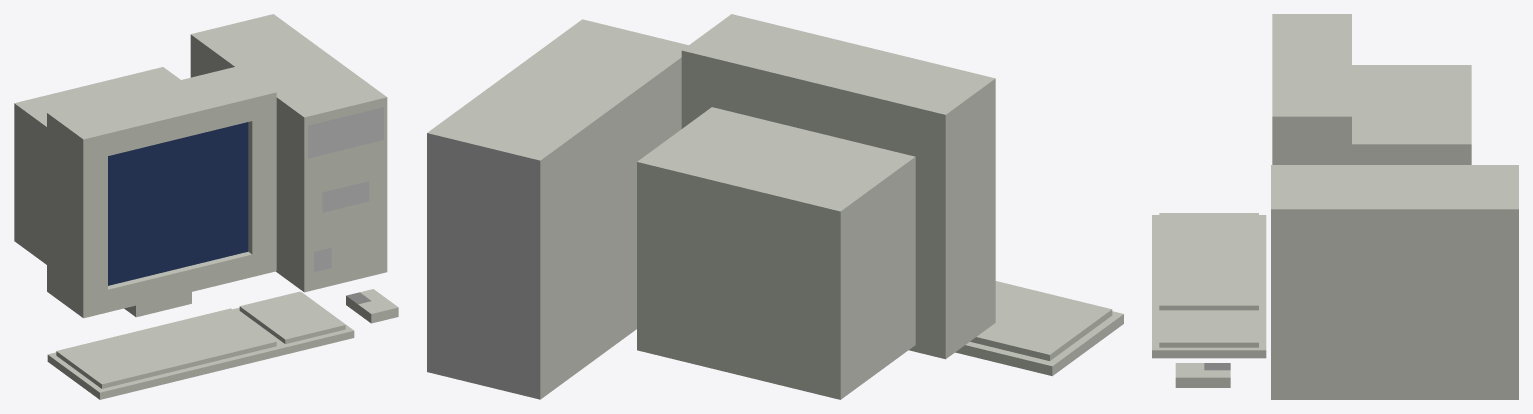
Rendered from oldComputer.fbx.
3 views of the same model, side by side, from view 1: azimuth 30°, elevation 25°; view 2: azimuth 150°, elevation 25°; view 3: azimuth 270°, elevation 25° (orthographic). The views are drawn at different scales.
Visible parts, largest first — view 1: Monitor, gabinet, keyboard, mouse; view 2: Monitor, gabinet, keyboard; view 3: gabinet, Monitor, keyboard, mouse.
Boxes of the visible parts, left/top/right/bottom form: Monitor: left=14, top=65, right=276, bottom=318; gabinet: left=190, top=14, right=387, bottom=292; keyboard: left=47, top=291, right=354, bottom=399; mouse: left=346, top=289, right=398, bottom=323; Monitor: left=637, top=14, right=995, bottom=399; gabinet: left=427, top=19, right=688, bottom=399; keyboard: left=955, top=281, right=1123, bottom=376; gabinet: left=1271, top=165, right=1518, bottom=399; Monitor: left=1272, top=14, right=1471, bottom=164; keyboard: left=1152, top=213, right=1266, bottom=358; mouse: left=1175, top=363, right=1230, bottom=387.
Bounding box in the file's own units: 191 × 112 × 163.
